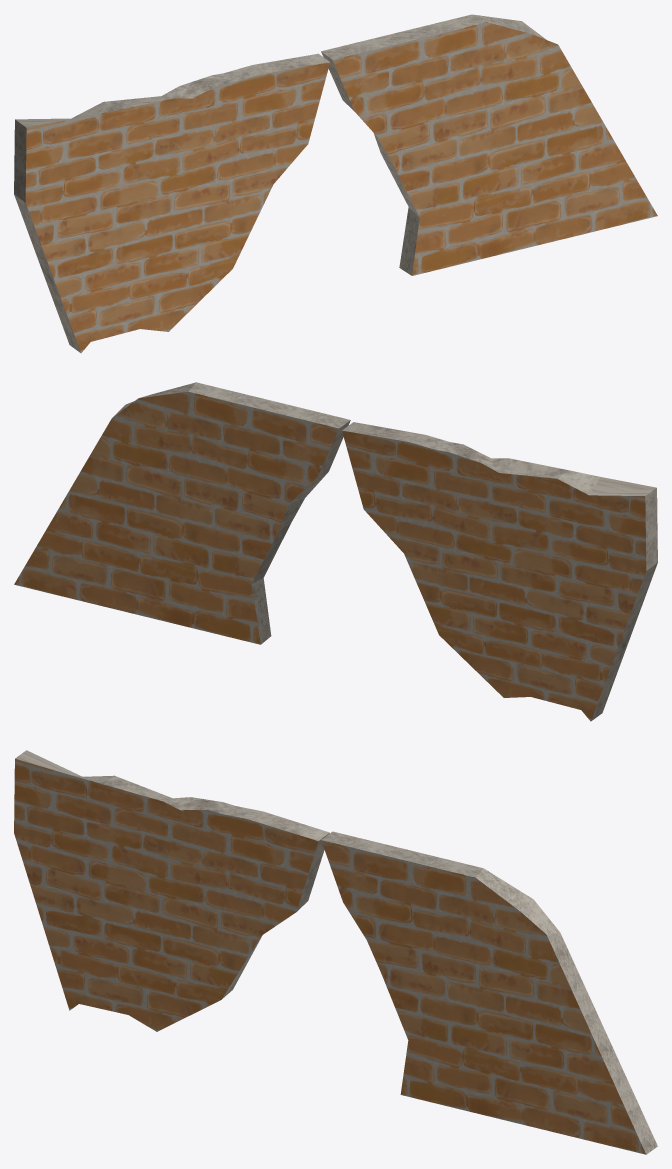
File: OldRuins_V3.fbx
The picture shows the model from 3 angles, top to bottom: view 1: azimuth 30°, elevation 25°; view 2: azimuth 150°, elevation 25°; view 3: azimuth 330°, elevation 25°; orthographic projection.
Visible parts, largest first — view 1: pCube4, pCube5; view 2: pCube4, pCube5; view 3: pCube4, pCube5.
Part boxes in pixels (x1,y1,x2,y2): pCube4: (14, 53, 330, 353); pCube5: (321, 14, 657, 275); pCube4: (342, 422, 657, 721); pCube5: (14, 382, 350, 644); pCube4: (14, 750, 329, 1031); pCube5: (321, 831, 657, 1154).
Size of the model in its own units: 1640 by 601 by 53.16.
3 materials, 3 textured.
